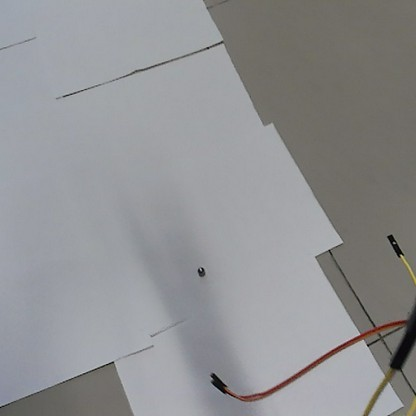ironball: (194, 264, 207, 279)
